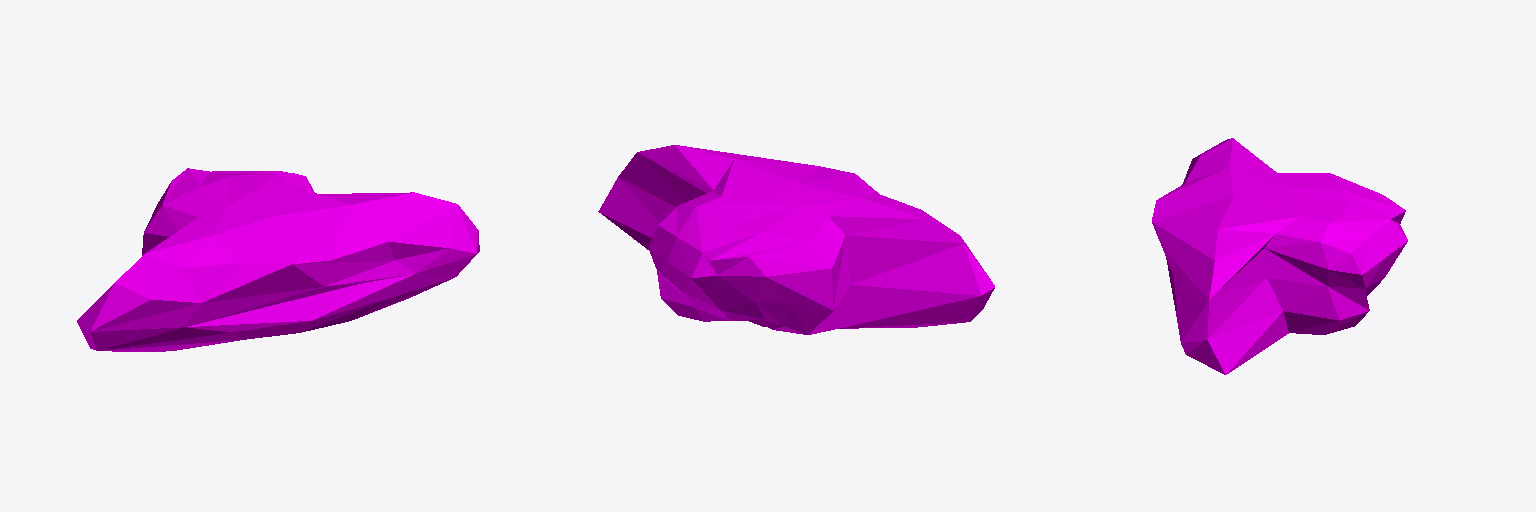
The model's file is rock-2.obj.
The picture shows the model from 3 angles: view 1: azimuth 30°, elevation 25°; view 2: azimuth 150°, elevation 25°; view 3: azimuth 270°, elevation 25°; orthographic projection.
Parts seen in each view (by area): view 1: Cube_001; view 2: Cube_001; view 3: Cube_001.
Part boxes in pixels (left/top/right/bottom): Cube_001: left=77, top=168, right=479, bottom=351; Cube_001: left=598, top=145, right=994, bottom=334; Cube_001: left=1152, top=138, right=1407, bottom=374.
Size of the model in its own units: 1.85 by 0.5243 by 1.05.